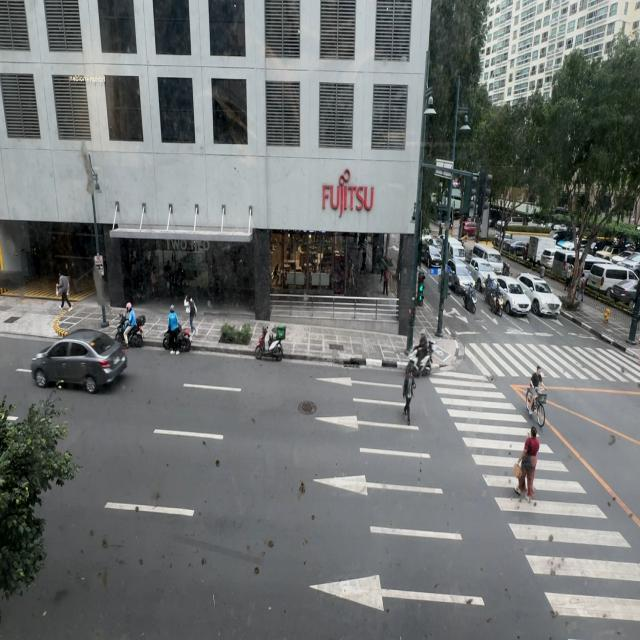jaywalking: (403, 366, 416, 424)
